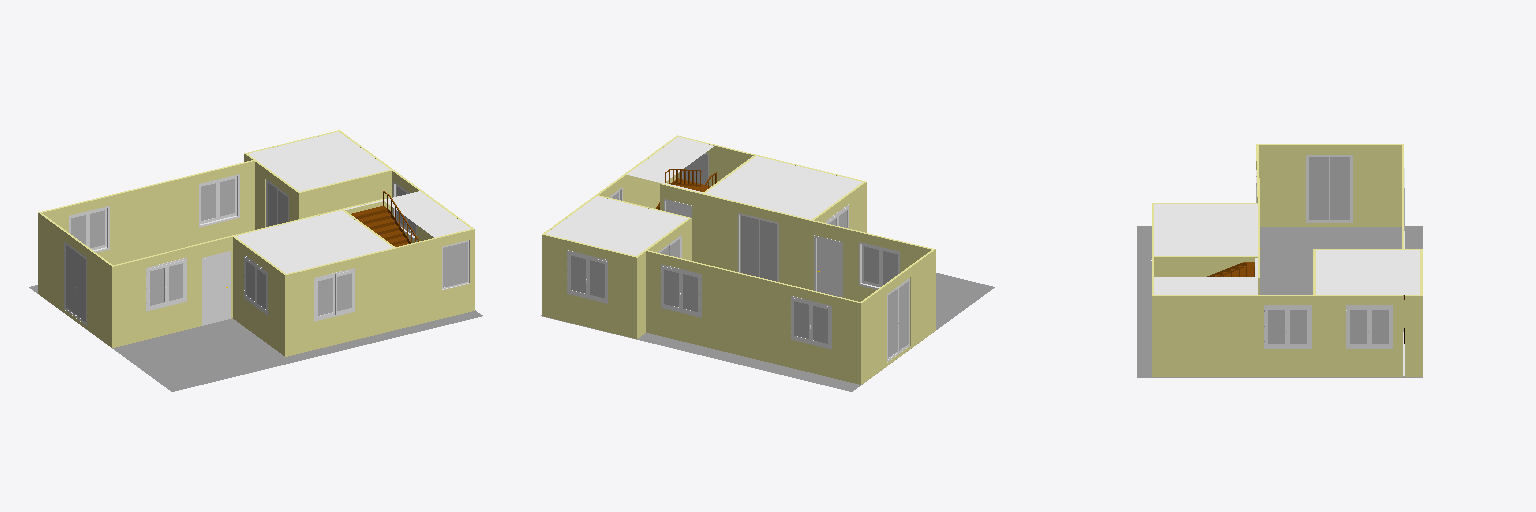
The model's file is house.obj.
3 views of the same model, side by side, from view 1: azimuth 30°, elevation 25°; view 2: azimuth 150°, elevation 25°; view 3: azimuth 270°, elevation 25° (orthographic).
Visible parts, largest first — view 1: wall_2_11, wall_30_77, ground_1, wall_5_29, room_34_81, room_39_85, wall_4_23, wall_1_5, wall_29_71, room_35_83, Porte_113, wall_28_65 (+8 smaller); view 2: wall_30_76, wall_26_52, room_34_81, wall_6_34, room_39_85, wall_4_23, ground_1, wall_5_28, room_35_83, wall_28_65, Porte_113, wall_3_16 (+11 smaller); view 3: wall_3_17, ground_1, wall_4_22, room_34_81, room_39_85, room_35_83, wall_7_40, wall_27_58, sweethome3d_window_pane_1_324, sweethome3d_window_pane_328, sweethome3d_window_pane_305, sweethome3d_window_pane_433.
Part boxes in pixels (left/top/right/bottom): wall_2_11: left=285, top=229, right=474, bottom=356; wall_30_77: left=42, top=161, right=254, bottom=264; ground_1: left=29, top=285, right=482, bottom=391; wall_5_29: left=112, top=237, right=232, bottom=347; room_34_81: left=235, top=210, right=392, bottom=273; room_39_85: left=249, top=132, right=390, bottom=191; wall_4_23: left=38, top=213, right=111, bottom=347; wall_1_5: left=233, top=237, right=284, bottom=355; wall_29_71: left=299, top=171, right=391, bottom=218; room_35_83: left=344, top=191, right=470, bottom=246; Porte_113: left=204, top=253, right=228, bottom=324; wall_28_65: left=244, top=154, right=298, bottom=229; wall_30_76: left=646, top=251, right=860, bottom=384; wall_26_52: left=542, top=235, right=636, bottom=338; room_34_81: left=705, top=156, right=862, bottom=219; wall_6_34: left=701, top=194, right=810, bottom=289; room_39_85: left=546, top=196, right=687, bottom=255; wall_4_23: left=861, top=249, right=935, bottom=384; ground_1: left=541, top=273, right=994, bottom=391; wall_5_28: left=811, top=221, right=930, bottom=301; room_35_83: left=627, top=137, right=752, bottom=192; wall_28_65: left=637, top=218, right=691, bottom=338; Porte_113: left=817, top=238, right=840, bottom=296; wall_3_16: left=566, top=147, right=675, bottom=218; wall_3_17: left=1152, top=296, right=1402, bottom=376; ground_1: left=1137, top=226, right=1422, bottom=377; wall_4_22: left=1259, top=145, right=1401, bottom=226; room_34_81: left=1154, top=204, right=1257, bottom=255; room_39_85: left=1316, top=250, right=1419, bottom=294; room_35_83: left=1154, top=258, right=1257, bottom=294; wall_7_40: left=1154, top=257, right=1257, bottom=276; wall_27_58: left=1405, top=296, right=1422, bottom=376; sweethome3d_window_pane_1_324: left=1309, top=157, right=1328, bottom=219; sweethome3d_window_pane_328: left=1330, top=157, right=1349, bottom=219; sweethome3d_window_pane_305: left=1350, top=310, right=1388, bottom=343; sweethome3d_window_pane_433: left=1268, top=310, right=1306, bottom=343.
Bounding box in the file's own units: 999 × 280 × 797.